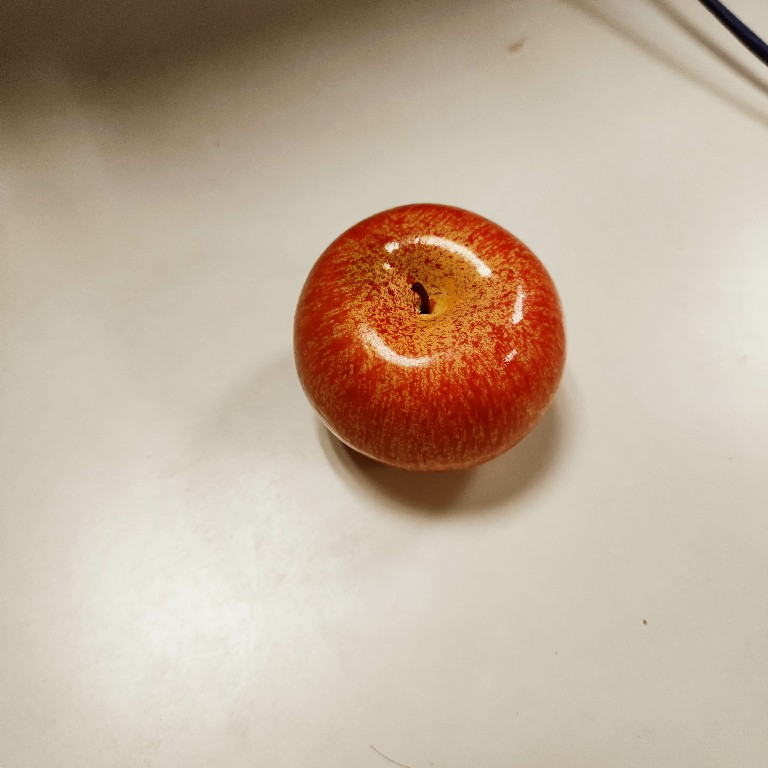fruit_apple: (289, 200, 573, 480)
